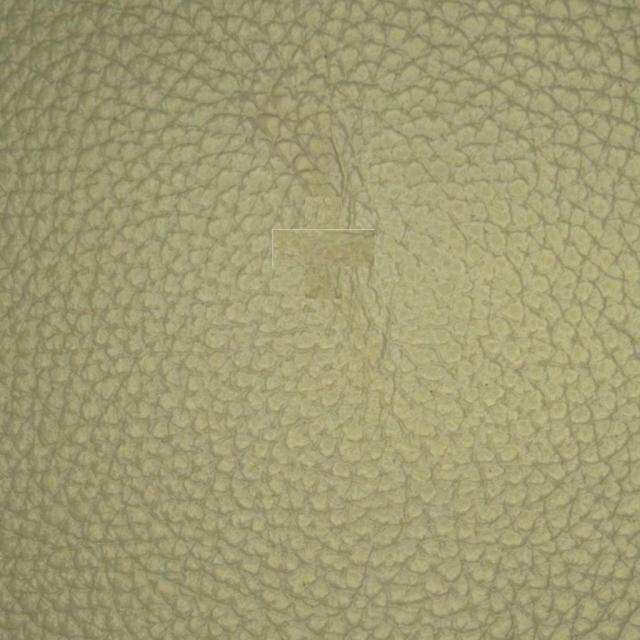Healed Injury: (242, 142, 420, 364)
